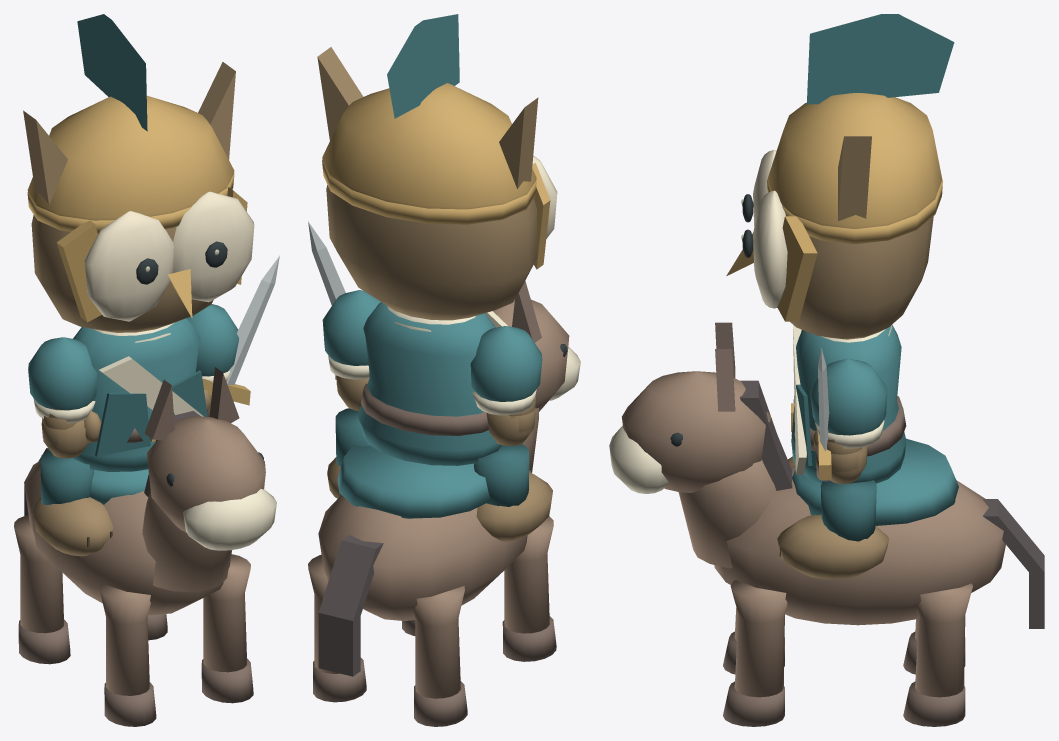
The model's file is rider.glb.
3 views of the same model, side by side, from view 1: azimuth 30°, elevation 25°; view 2: azimuth 150°, elevation 25°; view 3: azimuth 270°, elevation 25° (orthographic). The views are drawn at different scales.
Parts seen in each view (by area): view 1: Regional helmet, Pony head, Plump pony body, Owl face disk, Short folded tunic, Owl face disk.001, Animal cheek head, Pony neck, Greek crest, Pony stubby leg, Pony stubby leg.001, Puff sleeve (+26 smaller); view 2: Regional helmet, Animal cheek head, Short folded tunic, Plump pony body, Saddle blanket, Pony tail, Greek crest, Pony stubby leg.002, Puff sleeve, Pony stubby leg, Helmet brow band, Puff sleeve.001 (+21 smaller); view 3: Plump pony body, Regional helmet, Pony head, Animal cheek head, Greek crest, Short folded tunic, Pony neck, Saddle blanket, Pony stubby leg.001, Pony stubby leg.003, Soft animal paw.001, Puff sleeve.001 (+17 smaller).
Part boxes in pixels (x1,y1,x2,y2): Regional helmet: (27, 95, 234, 220); Pony head: (147, 416, 265, 532); Plump pony body: (24, 460, 231, 615); Owl face disk: (84, 211, 173, 321); Short folded tunic: (72, 318, 200, 471); Owl face disk.001: (173, 191, 254, 302); Animal cheek head: (31, 215, 213, 332); Pony neck: (142, 491, 231, 592); Greek crest: (77, 14, 147, 131); Pony stubby leg: (99, 584, 150, 695); Pony stubby leg.001: (203, 554, 250, 672); Puff sleeve: (28, 337, 97, 410); Regional helmet: (322, 83, 536, 209); Animal cheek head: (326, 185, 536, 320); Short folded tunic: (358, 302, 501, 465); Plump pony body: (318, 470, 531, 621); Saddle blanket: (337, 445, 490, 518); Pony tail: (318, 535, 383, 676); Greek crest: (387, 14, 459, 118); Pony stubby leg.002: (413, 586, 464, 698); Puff sleeve: (470, 326, 542, 401); Pony stubby leg: (504, 516, 553, 633); Helmet brow band: (322, 160, 536, 224); Puff sleeve.001: (322, 290, 380, 365); Plump pony body: (714, 465, 1005, 625); Regional helmet: (768, 93, 941, 228); Pony head: (622, 371, 770, 492); Animal cheek head: (790, 216, 933, 339); Greek crest: (806, 14, 954, 104); Short folded tunic: (791, 324, 906, 483); Pony neck: (678, 459, 776, 568); Saddle blanket: (792, 438, 958, 525); Pony stubby leg.001: (730, 580, 787, 697); Pony stubby leg.003: (915, 583, 972, 697); Soft animal paw.001: (777, 514, 888, 579); Puff sleeve.001: (810, 358, 887, 435).
Bounding box in the file's own units: 0.9142 × 2.39 × 1.4.
